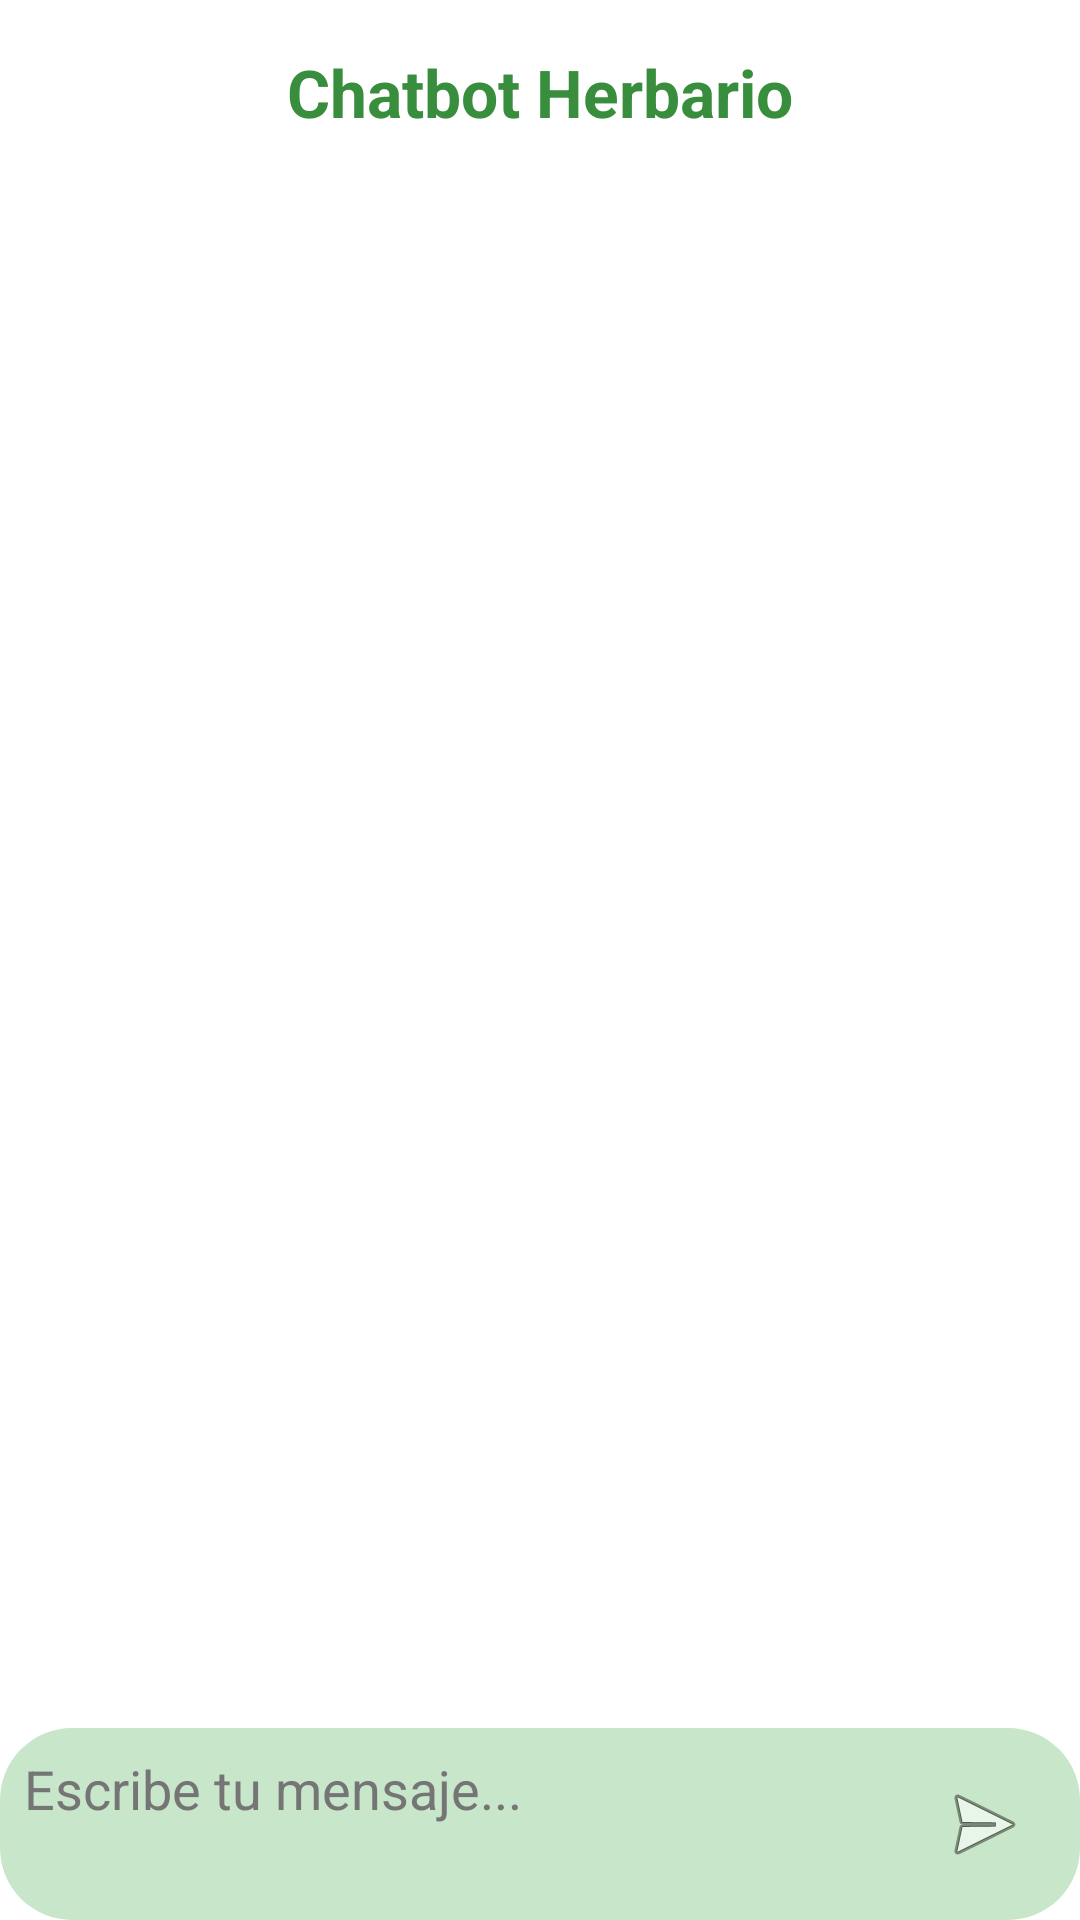

Icons on this 1080 x 1920 Android screen, each with the point to tap as (x=x, y=y):
Enviar: (x=985, y=1824)
